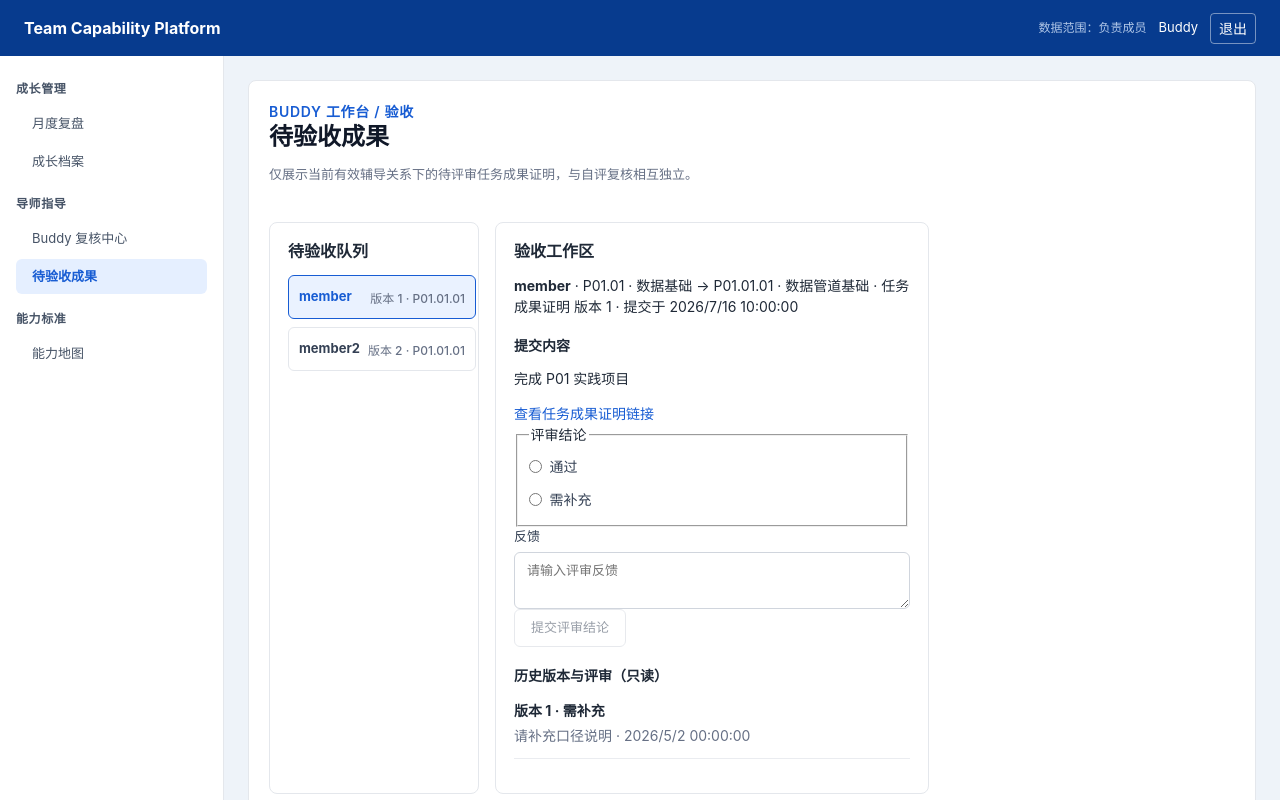
EvidenceReviewPage — standalone Buddy evidence queue › a history load failure for the current item leaves history empty and shows the error
Expected: the heading "待验收成果" is shown, [269,122,389,151]
Expected: the text "请补充口径说明 · 2026/5/2 00:00:00" is shown, [514,727,750,744]
Click the button "member2 版本 2 · P01.01.01" at (382, 348), box [288,326,476,370]
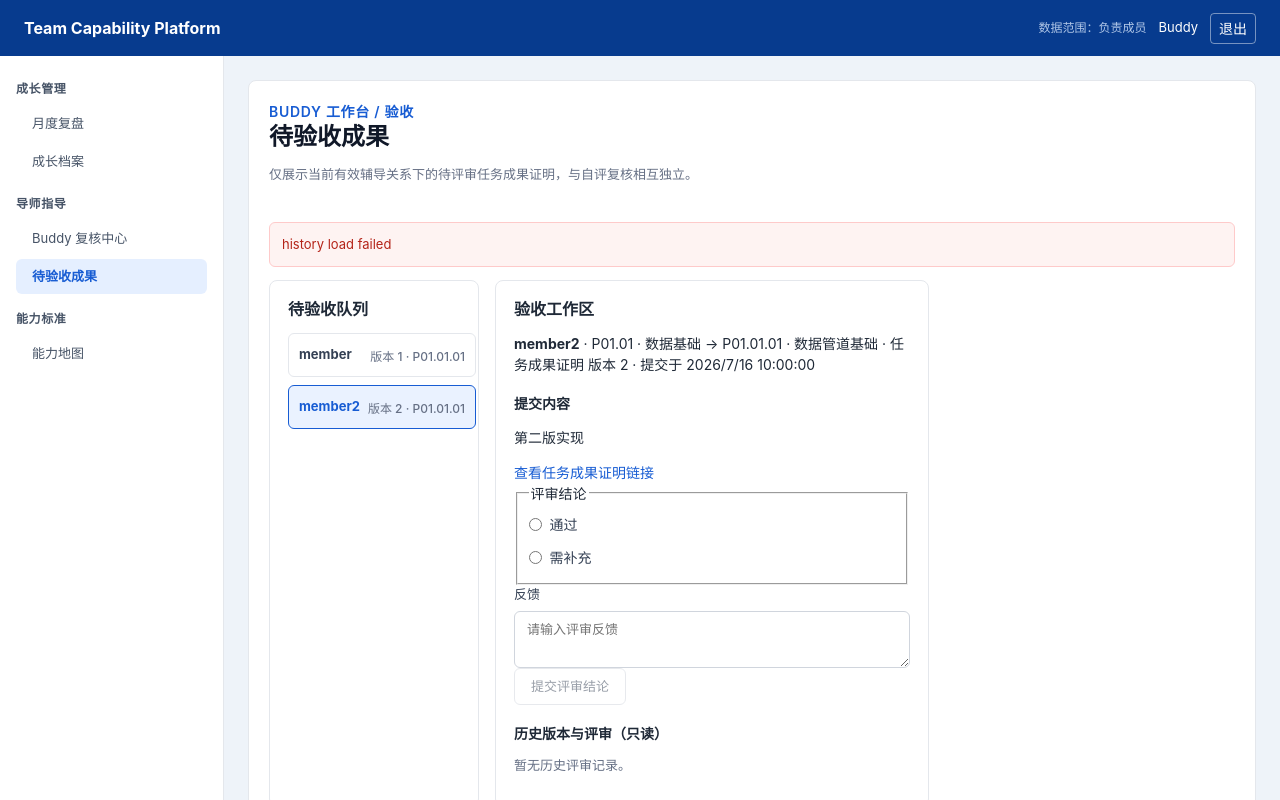
Result: the text "请补充口径说明" is gone
Result: the text "暂无历史评审记录。" is shown at [514,757,631,773]
